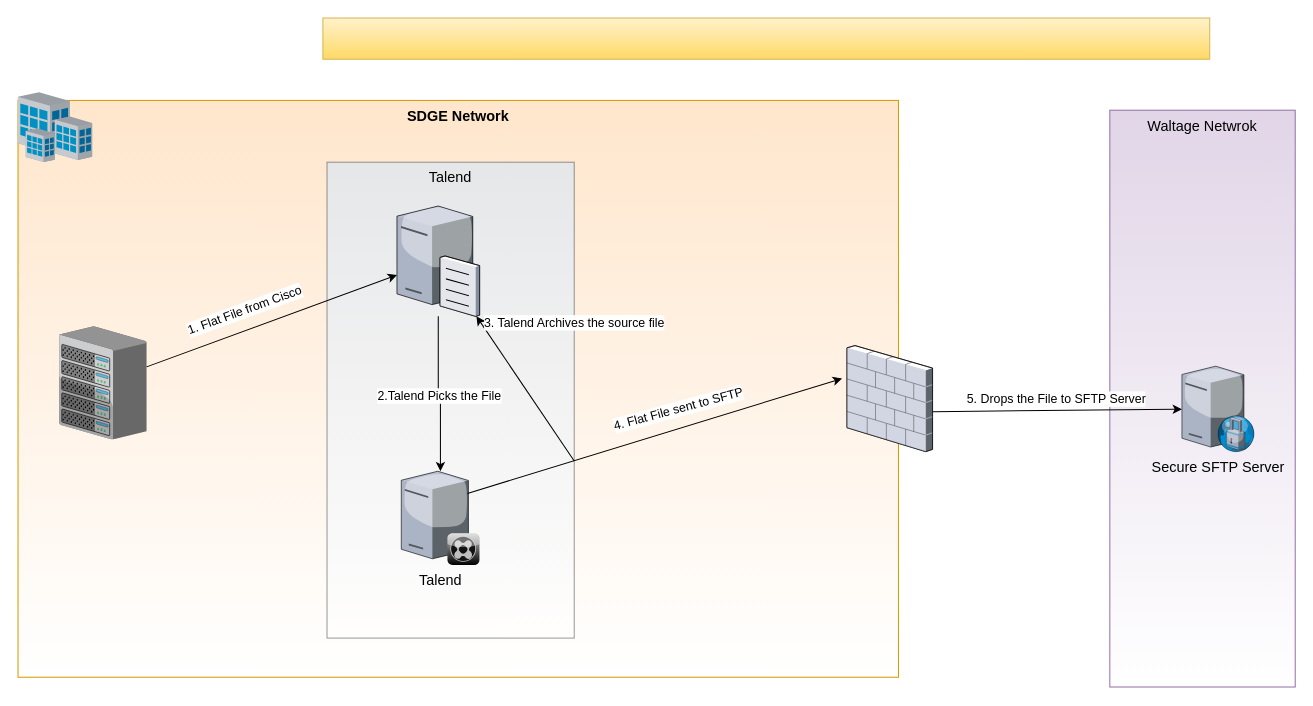
Image size: 1313x706. Some labels were removed from this diagram. Here are the shapes that lost their labels. From the top down, the centre of each, then its label:
At point (766, 38): "Interface 1 - File from CISCO to Waltage".
At point (102, 382): "CISCO - MainFrame".
At point (889, 398): "SDGE Firewall".
